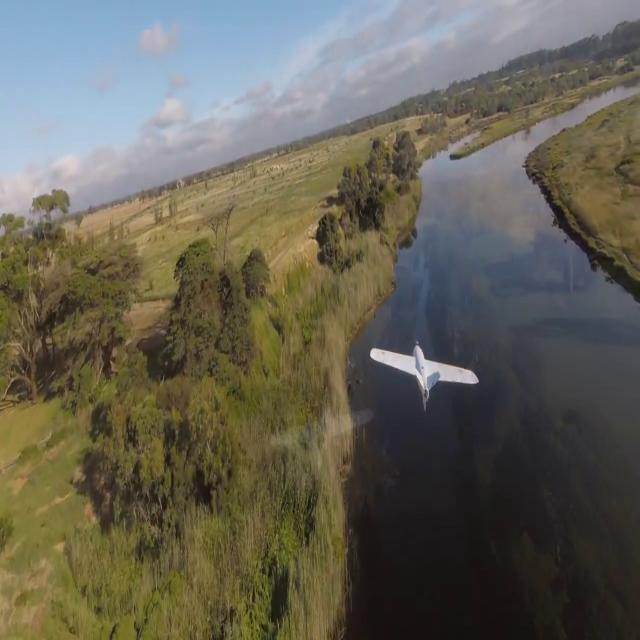iha: (403, 343, 447, 397)
